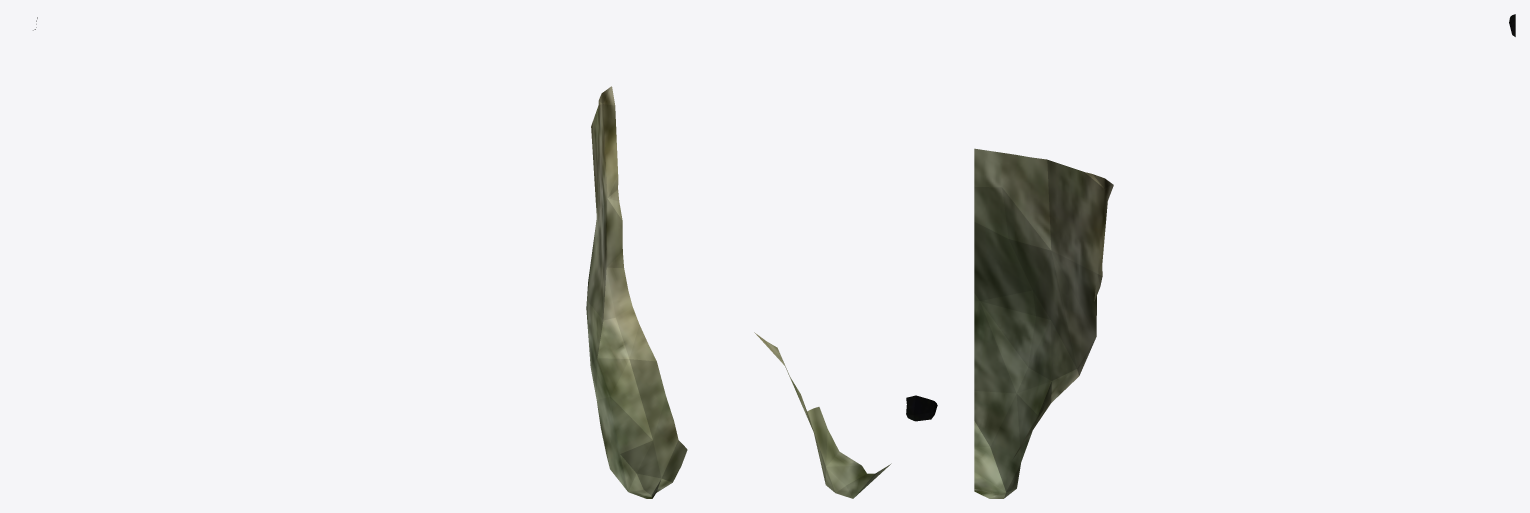
The picture shows the model from 3 angles, left to right: view 1: azimuth 30°, elevation 25°; view 2: azimuth 150°, elevation 25°; view 3: azimuth 270°, elevation 25°; orthographic projection. The views are drawn at different scales.
Bounding box in the file's own units: 2.21 × 1.96 × 2.95.
Materials: 1 (1 with a texture image).
